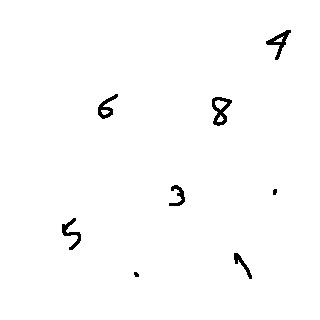.: (129, 264, 149, 287), (268, 181, 285, 200)
1: (225, 252, 261, 288)
3: (164, 176, 193, 212)
4: (265, 27, 303, 65)
5: (46, 215, 92, 256)
6: (91, 85, 127, 124)
8: (205, 91, 237, 146)
